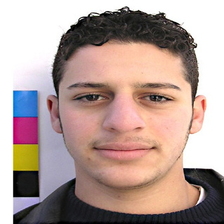no_mask: (63, 48, 188, 185)
